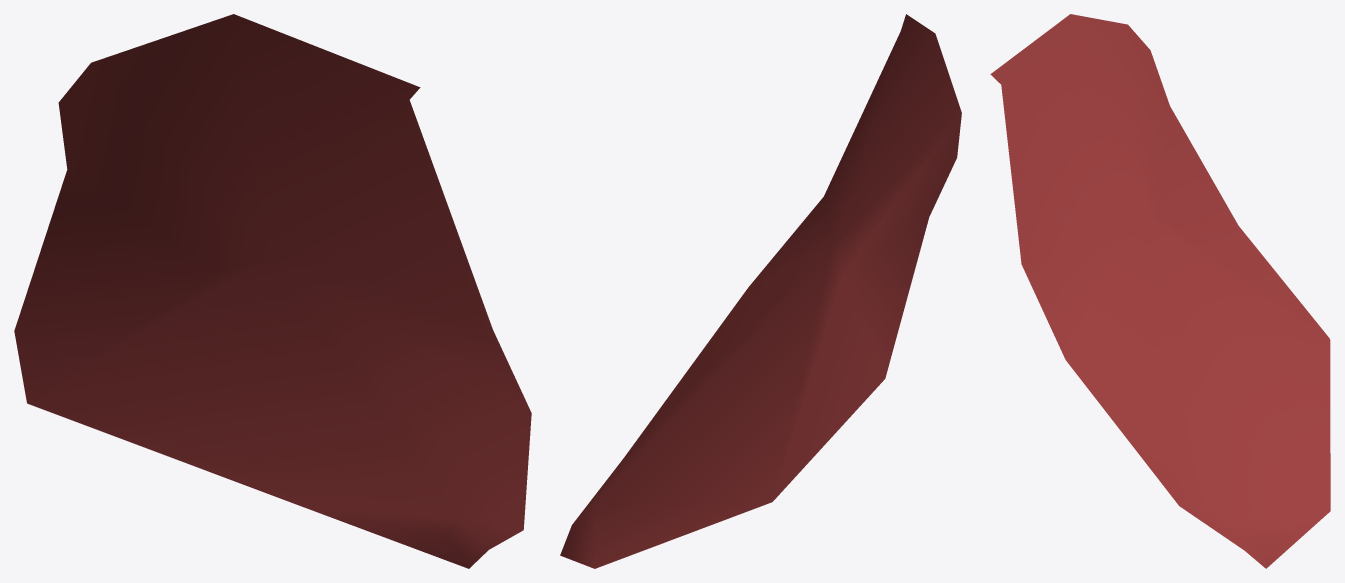
Rendered from lateral-head-of-gastrocnemius-ol.glb.
The picture shows the model from 3 angles, left to right: view 1: azimuth 30°, elevation 25°; view 2: azimuth 150°, elevation 25°; view 3: azimuth 270°, elevation 25°; orthographic projection. The views are drawn at different scales.
Visible parts, largest first — view 1: Lateral head of gastrocnemius.ol; view 2: Lateral head of gastrocnemius.ol; view 3: Lateral head of gastrocnemius.ol.
Part boxes in pixels (left/top/right/bottom): Lateral head of gastrocnemius.ol: left=14, top=14, right=531, bottom=568; Lateral head of gastrocnemius.ol: left=560, top=14, right=961, bottom=568; Lateral head of gastrocnemius.ol: left=990, top=14, right=1330, bottom=568.
Size of the model in its own units: 0.0132 by 0.0192 by 0.0134.
